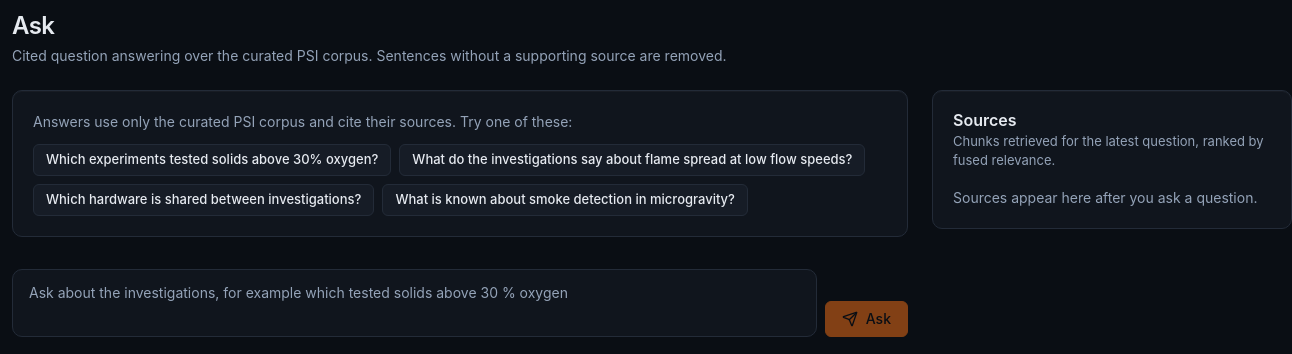
Ask page /ask (doc 10 section 5, CF-09) › FR-11: an out-of-corpus question shows the fixed sentence without citations
Replace the text in the text box with test id "ask-input" with "What is the boiling point of lunar regolith?". click: (414, 303)
box: [12, 269, 817, 337]
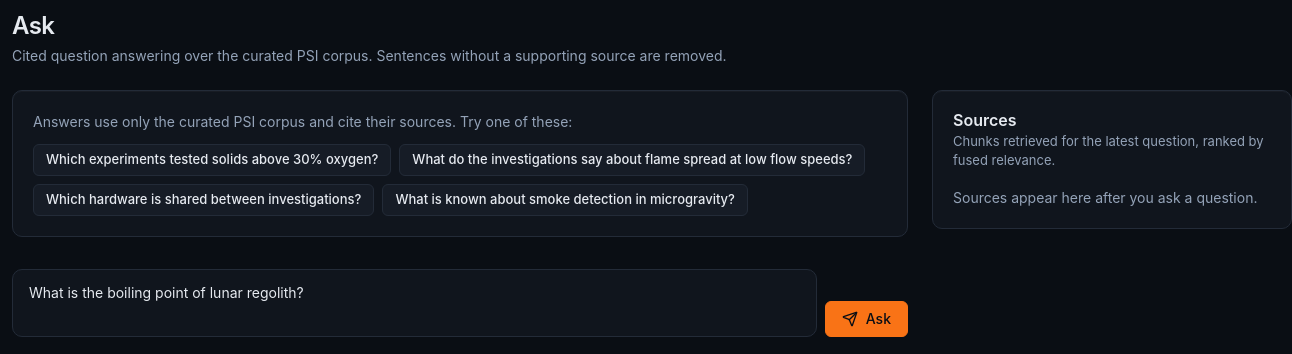
Click the button "Ask". click: (866, 319)
box: [825, 301, 908, 337]
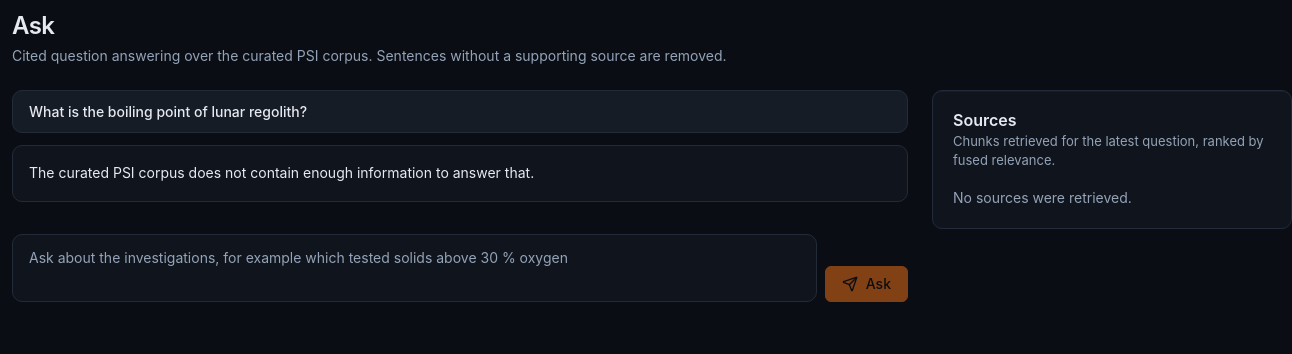
Check: the text "The curated PSI corpus does not contain enough information to answer that." is shown, box [29, 164, 534, 181]
